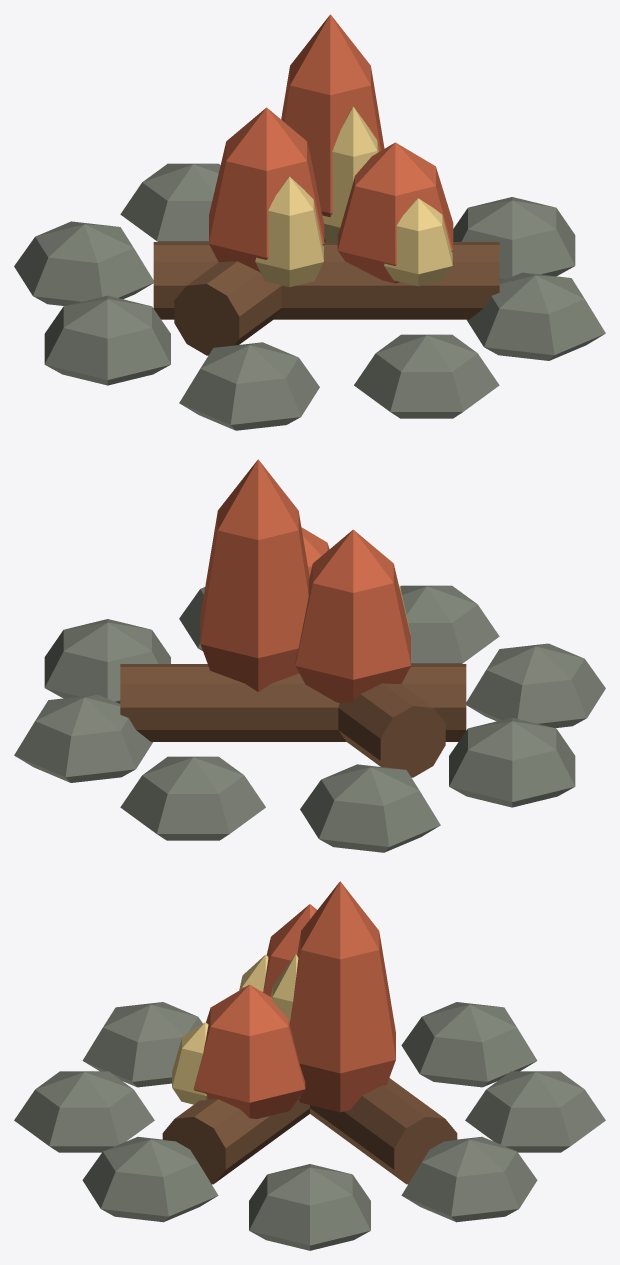
File: 03_Stone_Campfire.glb
3 renders of one model, top to bottom at view 1: azimuth 30°, elevation 25°; view 2: azimuth 150°, elevation 25°; view 3: azimuth 270°, elevation 25°, orthographic. The views are drawn at different scales.
Visible parts, largest first — view 1: 03_Stone_Campfire__Body; view 2: 03_Stone_Campfire__Body; view 3: 03_Stone_Campfire__Body.
Boxes of the visible parts, x1=… form: 03_Stone_Campfire__Body: x1=14, y1=14, x2=605, y2=430; 03_Stone_Campfire__Body: x1=14, y1=459, x2=605, y2=852; 03_Stone_Campfire__Body: x1=14, y1=881, x2=605, y2=1250.
Size of the model in its own units: 2.94 by 1.48 by 2.94.
Materials: 1 (1 with a texture image).
